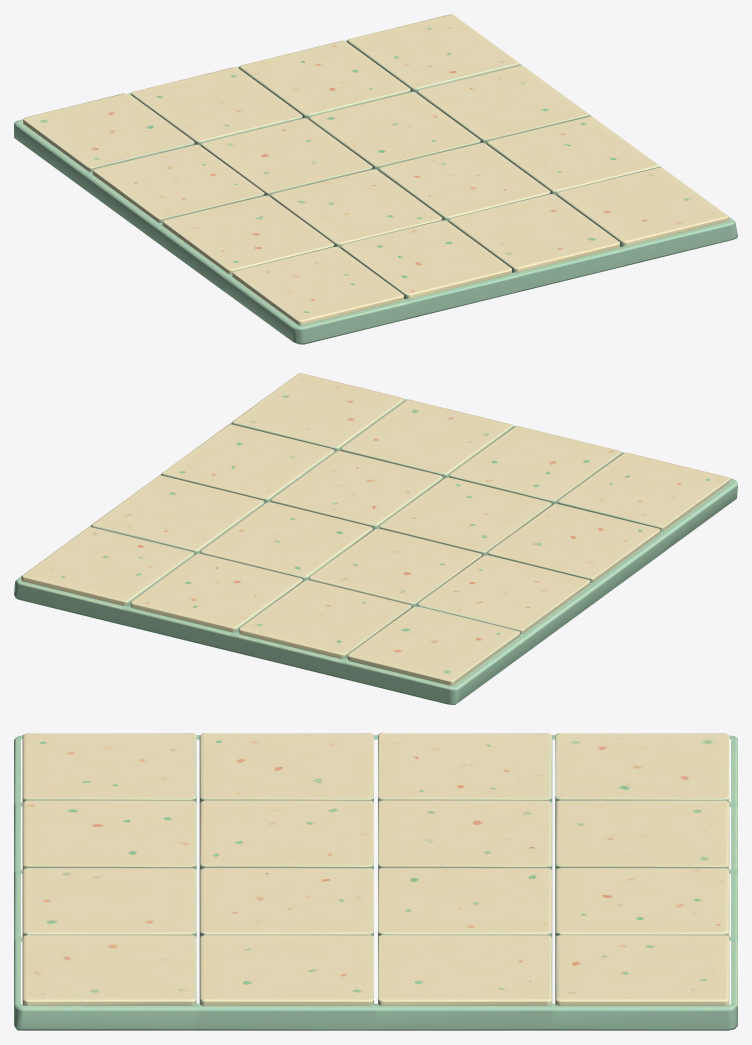
File: tile-floor.glb
3 renders of one model, top to bottom at view 1: azimuth 30°, elevation 25°; view 2: azimuth 150°, elevation 25°; view 3: azimuth 270°, elevation 25°, orthographic. The views are drawn at different scales.
Parts seen in each view (by area): view 1: Tile Floor; view 2: Tile Floor; view 3: Tile Floor.
Boxes of the visible parts, left/top/right/bottom form: Tile Floor: left=14, top=14, right=737, bottom=344; Tile Floor: left=14, top=373, right=737, bottom=704; Tile Floor: left=14, top=733, right=737, bottom=1030.
Size of the model in its own units: 0.9004 by 0.041 by 0.998.
1 material, 1 textured.
